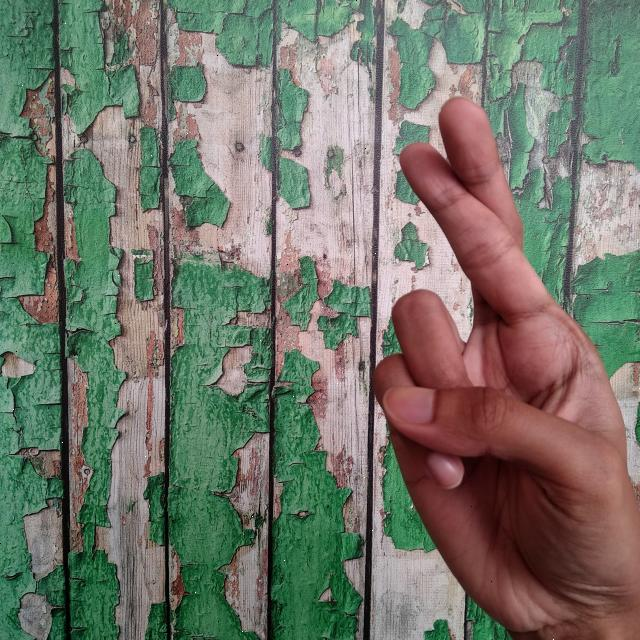R: (366, 89, 640, 640)
